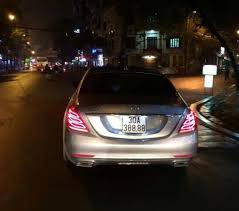Car number plates: (123, 115, 146, 134)
